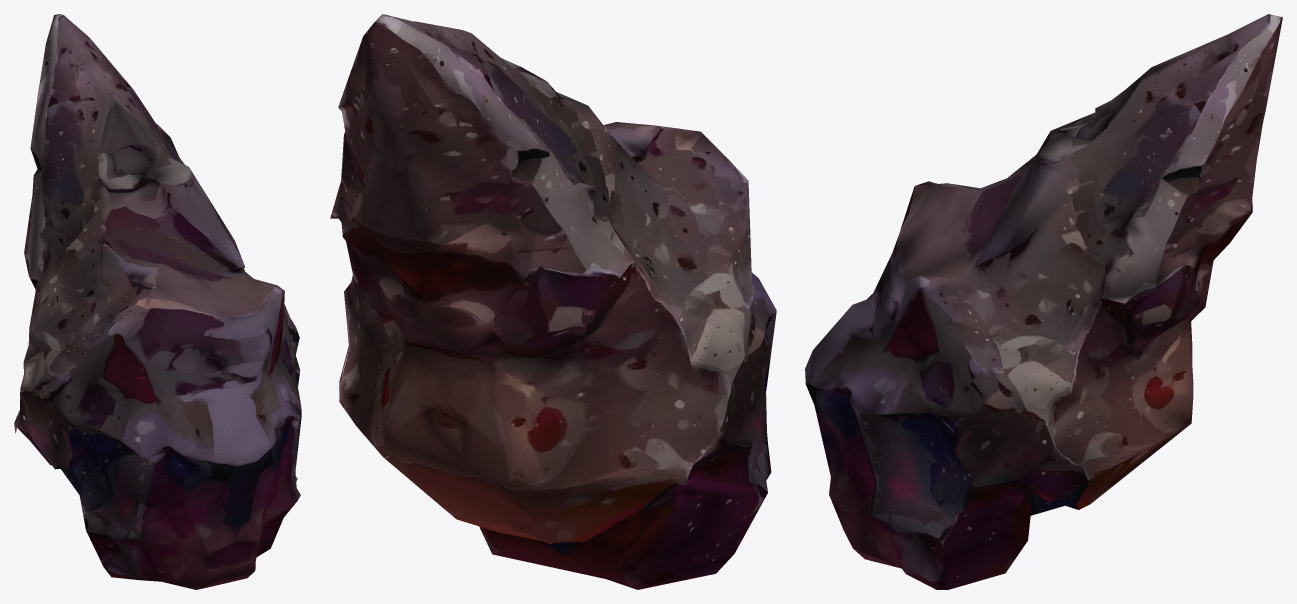
Rendered from rock-shard.glb.
3 views of the same model, side by side, from view 1: azimuth 30°, elevation 25°; view 2: azimuth 150°, elevation 25°; view 3: azimuth 270°, elevation 25° (orthographic). The views are drawn at different scales.
Visible parts, largest first — view 1: tripo_node_576eada2-cb55-4664-966e-dbac0e705be2; view 2: tripo_node_576eada2-cb55-4664-966e-dbac0e705be2; view 3: tripo_node_576eada2-cb55-4664-966e-dbac0e705be2.
Boxes of the visible parts, <box> form: tripo_node_576eada2-cb55-4664-966e-dbac0e705be2: <box>14,14,301,589</box>; tripo_node_576eada2-cb55-4664-966e-dbac0e705be2: <box>330,14,776,589</box>; tripo_node_576eada2-cb55-4664-966e-dbac0e705be2: <box>805,14,1282,589</box>.
Size of the model in its own units: 0.5995 by 0.9996 by 0.8094.
Materials: 1 (1 with a texture image).
